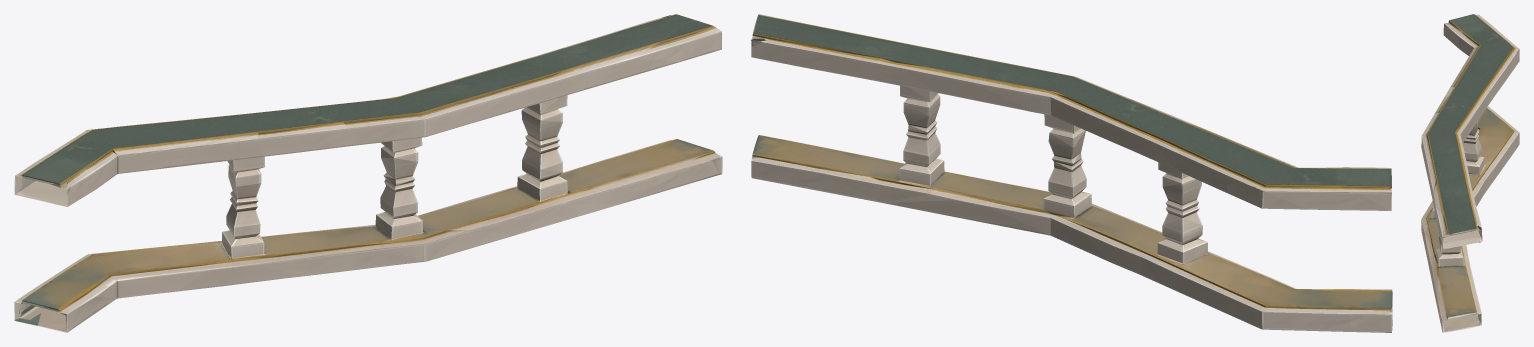
Rendered from item18.glb.
The picture shows the model from 3 angles, left to right: view 1: azimuth 30°, elevation 25°; view 2: azimuth 150°, elevation 25°; view 3: azimuth 270°, elevation 25°; orthographic projection. The views are drawn at different scales.
Visible parts, largest first — view 1: output_unwrapped; view 2: output_unwrapped; view 3: output_unwrapped.
Boxes of the visible parts, x1,y1,x2,y2 form: output_unwrapped: [14, 14, 722, 332]; output_unwrapped: [751, 14, 1392, 332]; output_unwrapped: [1421, 14, 1519, 332].
Size of the model in its own units: 1 by 0.207 by 0.1867.
Materials: 1 (1 with a texture image).
